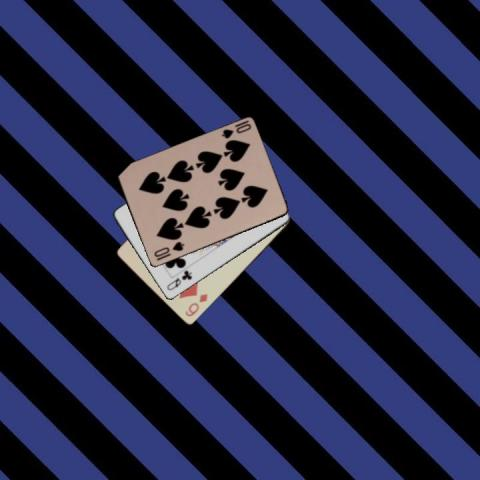10s: (151, 238, 185, 258), (218, 121, 252, 140)
6d: (182, 291, 209, 318)
Qc: (164, 267, 194, 293)
